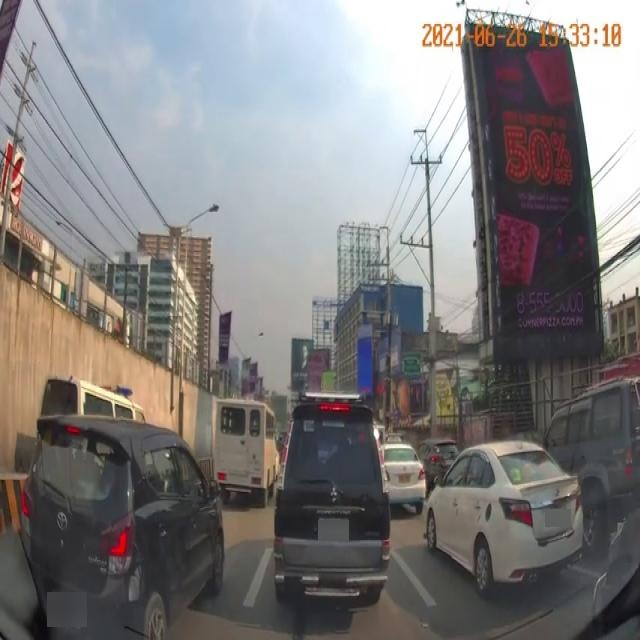car: (16, 420, 226, 636), (436, 448, 580, 597), (541, 375, 640, 554), (214, 396, 282, 513), (380, 443, 428, 517)
